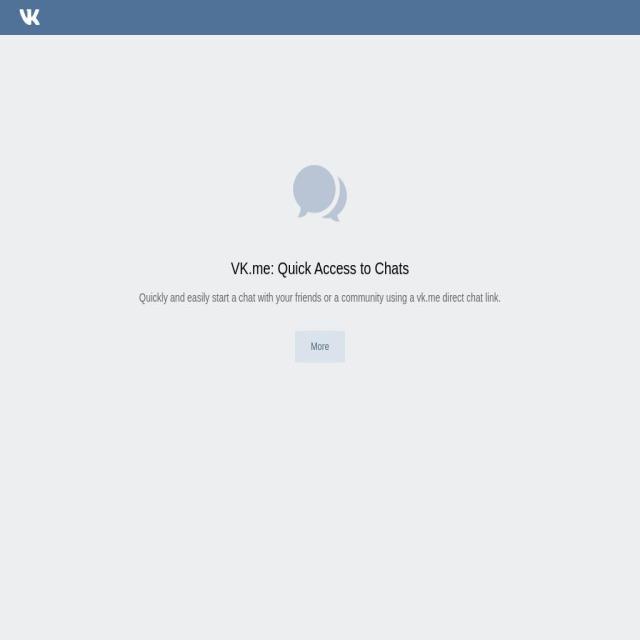button: (14, 0, 320, 37), (295, 331, 345, 362)
image: (289, 153, 351, 237), (19, 9, 40, 25)
text: (31, 258, 609, 278), (31, 289, 609, 306), (295, 331, 345, 362)
